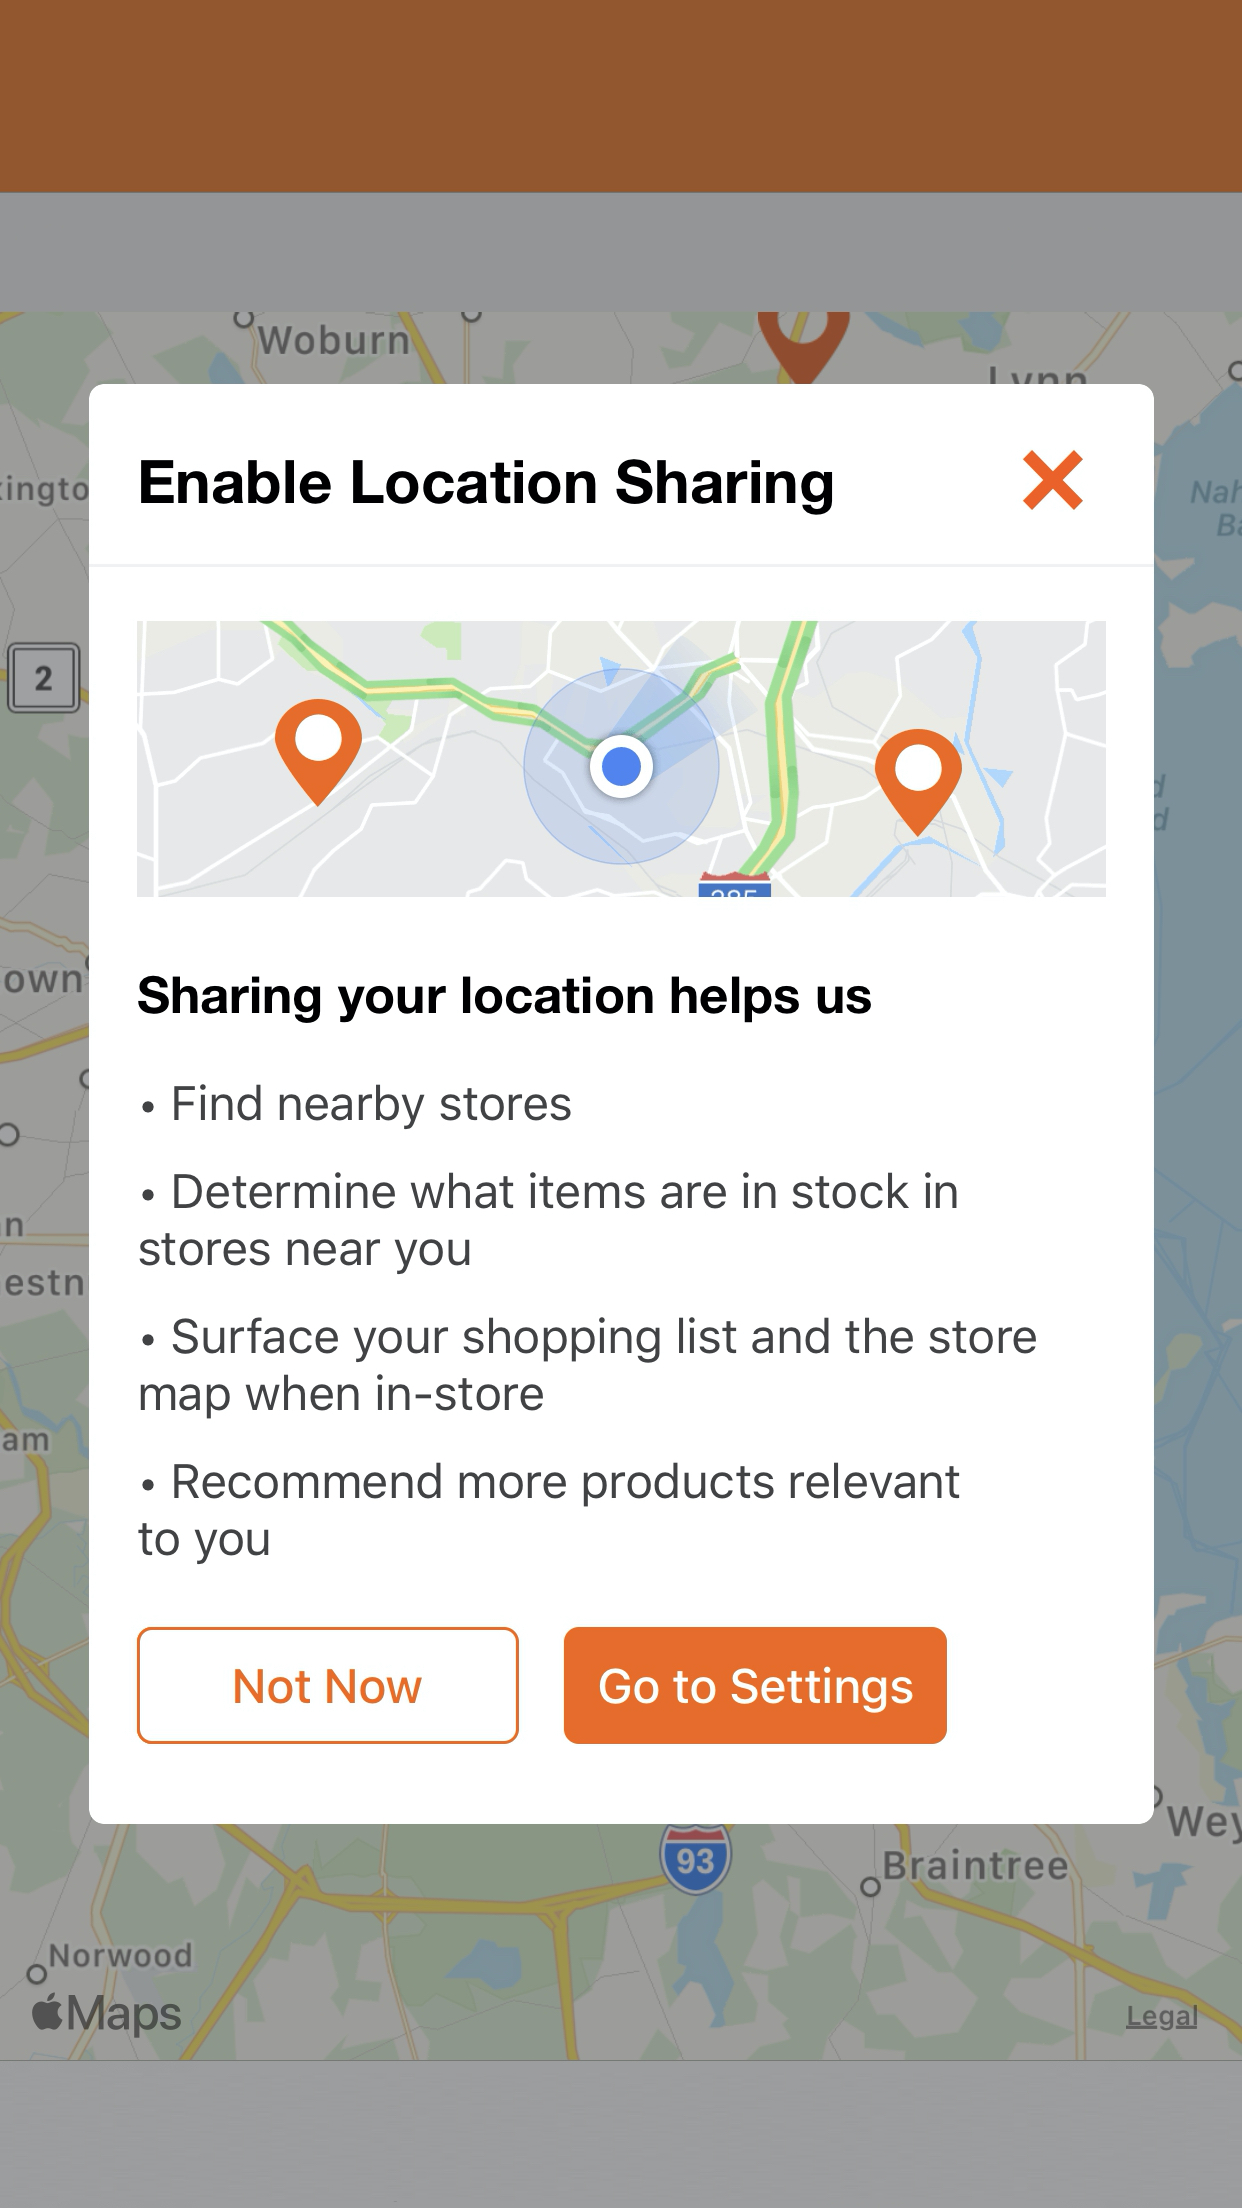Icon: (1021, 450, 1084, 511)
Image: (136, 622, 1106, 898)
Modal: (89, 385, 1154, 1824)
Text: (140, 1316, 1036, 1419), (138, 1462, 960, 1565), (140, 1172, 958, 1274), (141, 459, 833, 516), (138, 975, 870, 1024), (143, 1083, 572, 1128)
TextButton: (136, 1626, 520, 1744), (564, 1626, 946, 1744)
